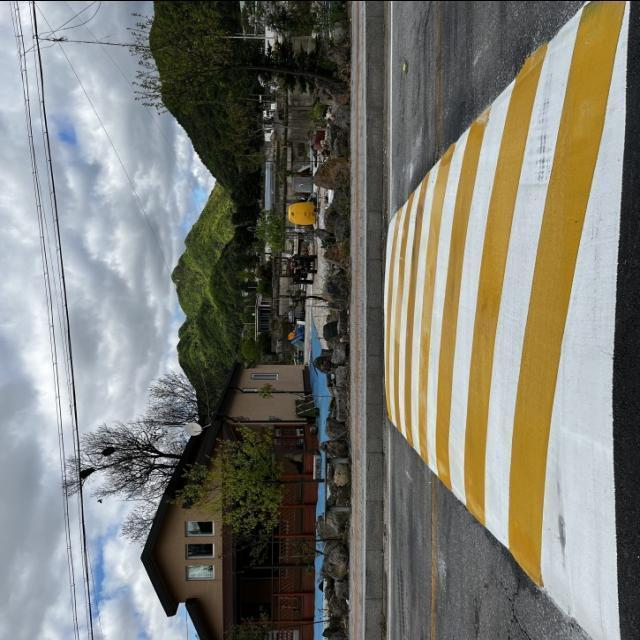speedbreaker: (381, 0, 640, 640)
